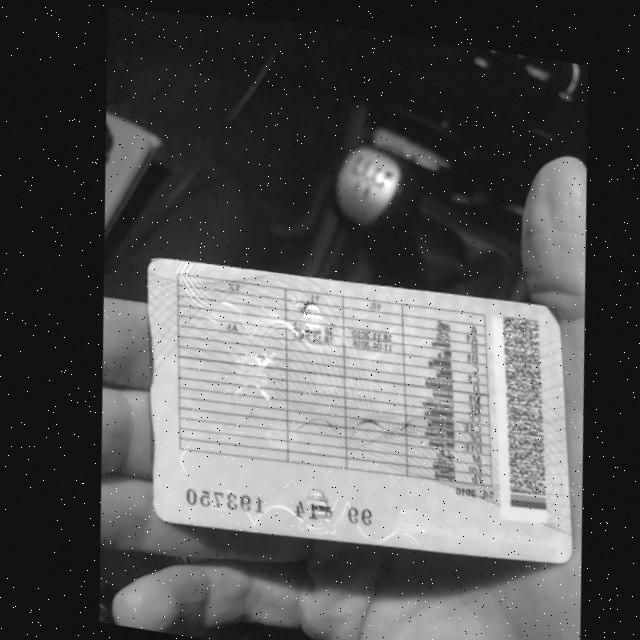card: (147, 259, 571, 562)
